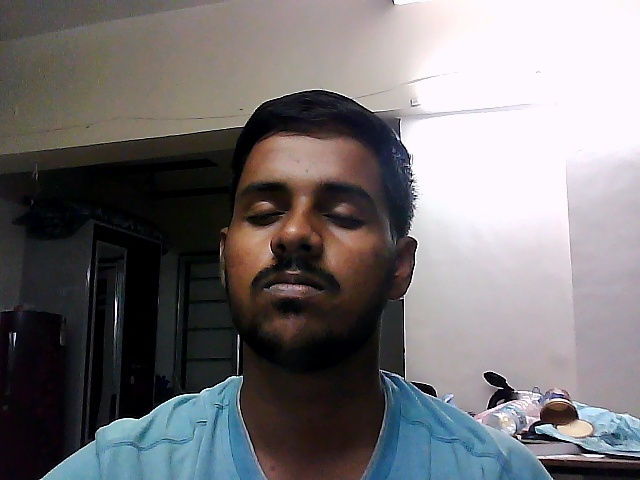drowsy: (206, 92, 434, 379)
